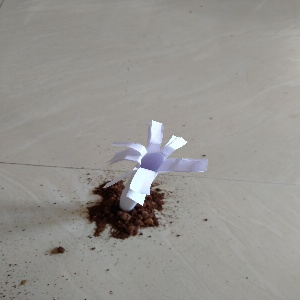weed: (103, 119, 198, 214)
